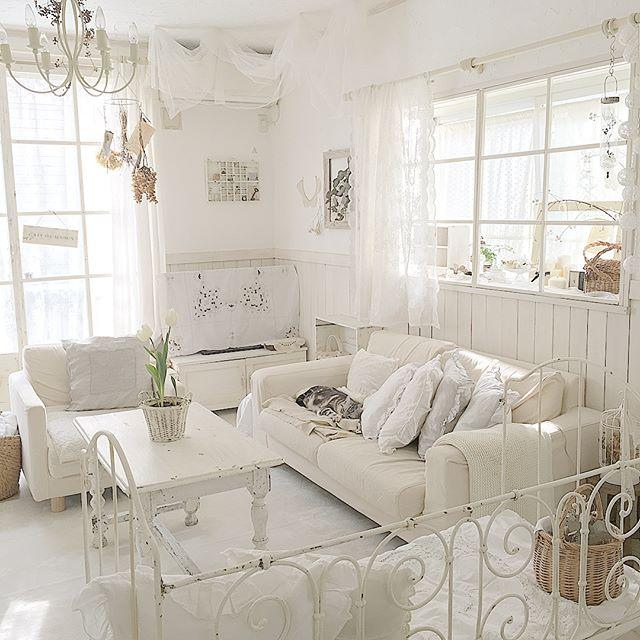white sofa: (208, 319, 612, 529)
